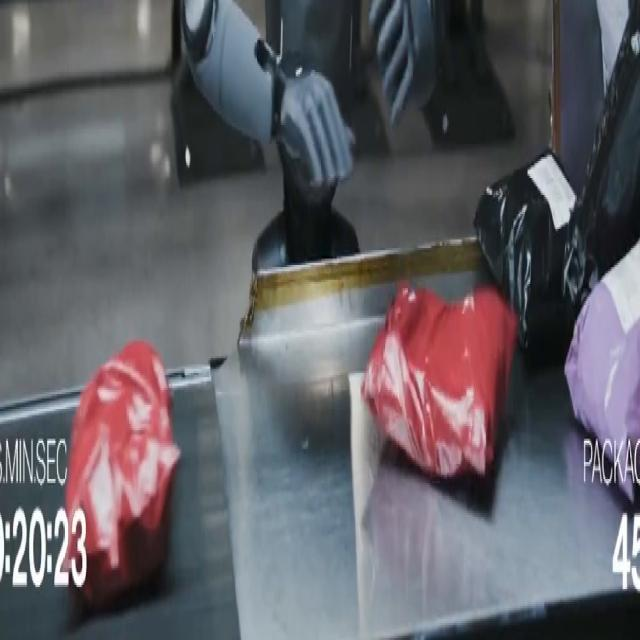package: (66, 342, 179, 608), (362, 284, 516, 478), (564, 3, 639, 315), (474, 151, 575, 358), (566, 244, 639, 500), (597, 0, 629, 91)
